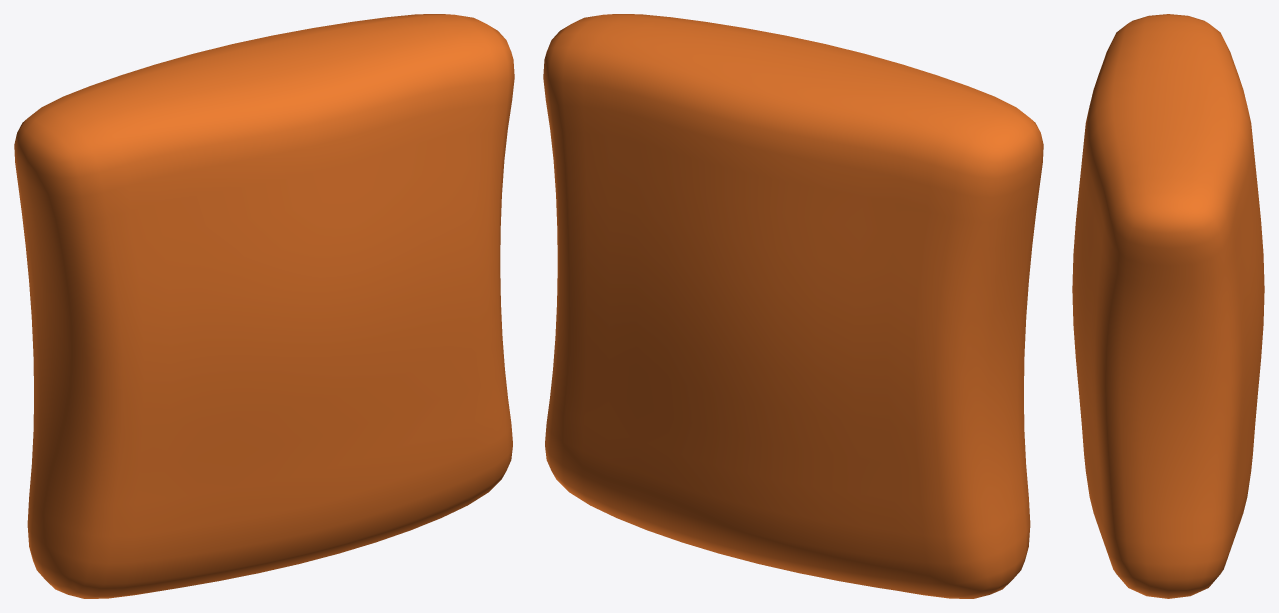
Rendered from Candy 01.fbx.
3 renders of one model, left to right at view 1: azimuth 30°, elevation 25°; view 2: azimuth 150°, elevation 25°; view 3: azimuth 270°, elevation 25°, orthographic. The views are drawn at different scales.
Visible parts, largest first — view 1: Candy_01; view 2: Candy_01; view 3: Candy_01.
Boxes of the visible parts, x1,y1,x2,y2 form: Candy_01: (14, 14, 514, 598); Candy_01: (543, 14, 1043, 598); Candy_01: (1072, 14, 1264, 598).
Size of the model in its own units: 20 by 20 by 8.
